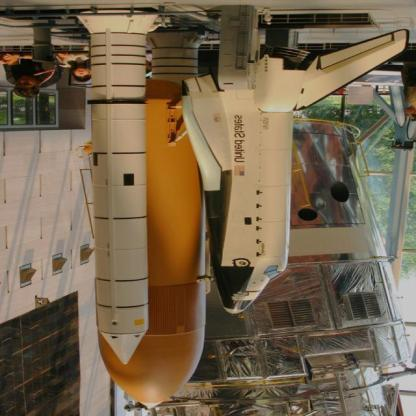MIL_TBM: (87, 15, 152, 373)
